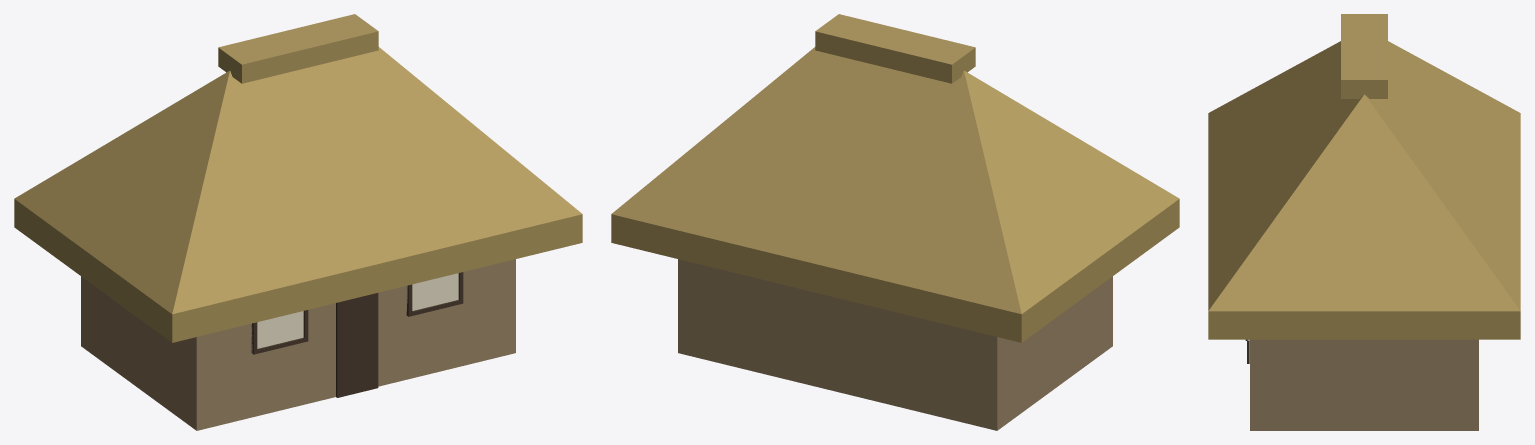
The model's file is ie_kayabuki.glb.
The picture shows the model from 3 angles, left to right: view 1: azimuth 30°, elevation 25°; view 2: azimuth 150°, elevation 25°; view 3: azimuth 270°, elevation 25°; orthographic projection.
Parts seen in each view (by area): view 1: ie_kayabuki; view 2: ie_kayabuki; view 3: ie_kayabuki.
Boxes of the visible parts, x1=… form: ie_kayabuki: x1=14, y1=14, x2=582, y2=430; ie_kayabuki: x1=611, y1=14, x2=1179, y2=430; ie_kayabuki: x1=1208, y1=14, x2=1520, y2=430.
Bounding box in the file's own units: 9 × 6.5 × 6.
